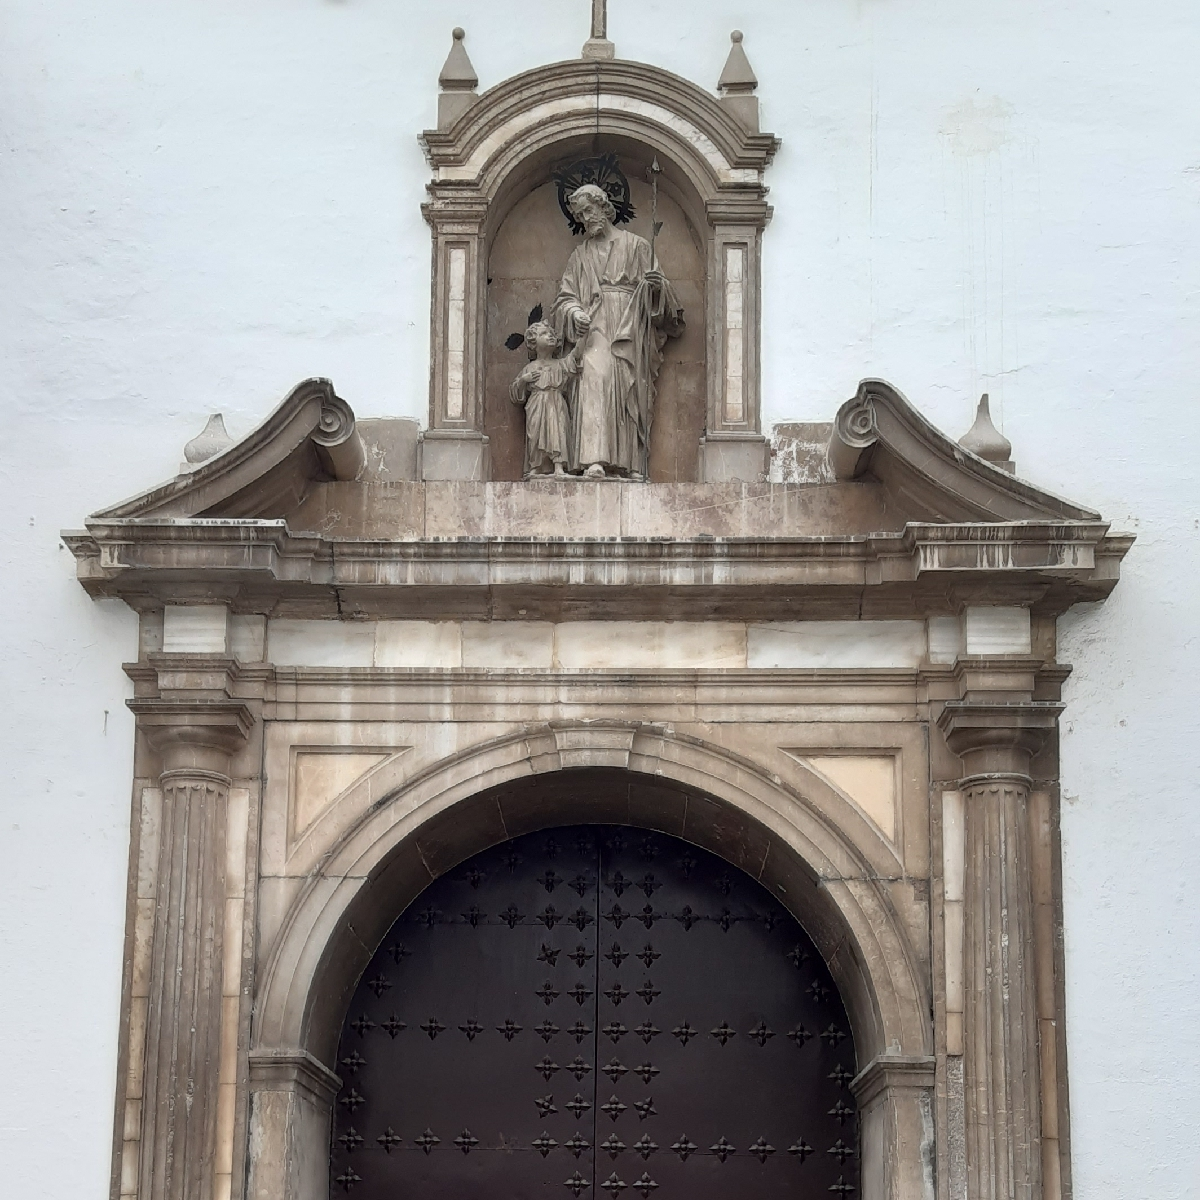arco-medio-punto: (281, 744, 901, 1146), (466, 119, 723, 281)
fronton-partido: (60, 364, 1118, 587)
